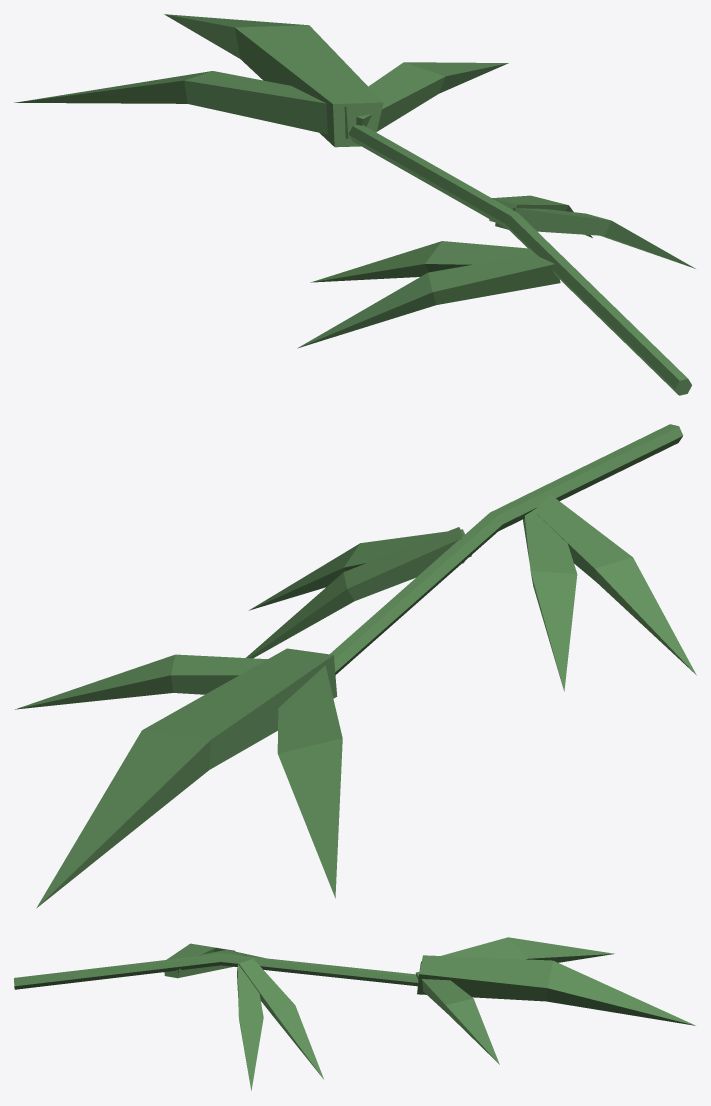
3 views of the same model, one above another, from view 1: azimuth 30°, elevation 25°; view 2: azimuth 150°, elevation 25°; view 3: azimuth 270°, elevation 25° (orthographic). The views are drawn at different scales.
Parts seen in each view (by area): view 1: bamboo-leaf2; view 2: bamboo-leaf2; view 3: bamboo-leaf2.
Boxes of the visible parts, x1,y1,x2,y2 form: bamboo-leaf2: (14,14,695,395); bamboo-leaf2: (15,424,696,908); bamboo-leaf2: (14,937,695,1090).
Size of the model in its own units: 27.68 by 7.8 by 62.76.
